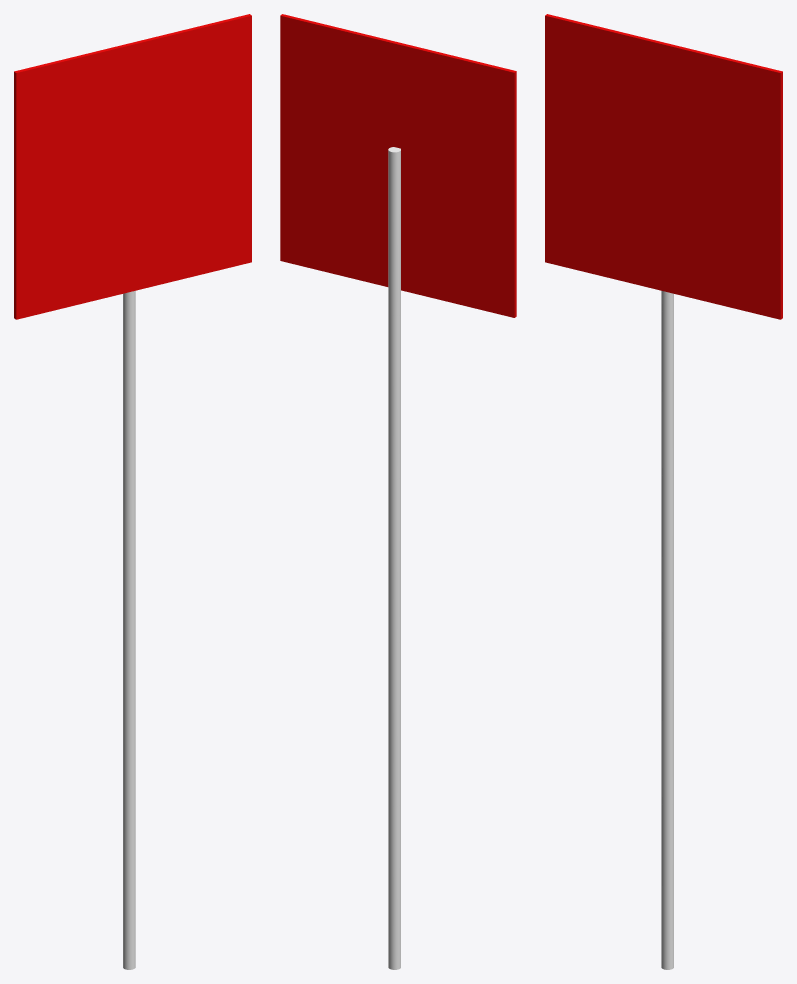
Rendered from RedSheild.FBX.
3 renders of one model, left to right at view 1: azimuth 30°, elevation 25°; view 2: azimuth 150°, elevation 25°; view 3: azimuth 330°, elevation 25°, orthographic.
Parts seen in each view (by area): view 1: Box001, Cylinder001; view 2: Box001, Cylinder001; view 3: Box001, Cylinder001.
Part boxes in pixels (x1,y1,x2,y2): Box001: (14,14,251,319); Cylinder001: (123,291,135,969); Box001: (280,14,516,317); Cylinder001: (388,147,400,969); Box001: (545,14,782,319); Cylinder001: (661,291,673,969).
Size of the model in its own units: 60 by 225 by 3.56.
